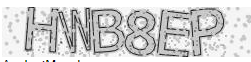8: (125, 9, 157, 55)
B: (91, 8, 126, 54)
E: (156, 9, 191, 58)
H: (24, 6, 59, 54)
P: (189, 8, 226, 57)
W: (57, 7, 92, 52)
